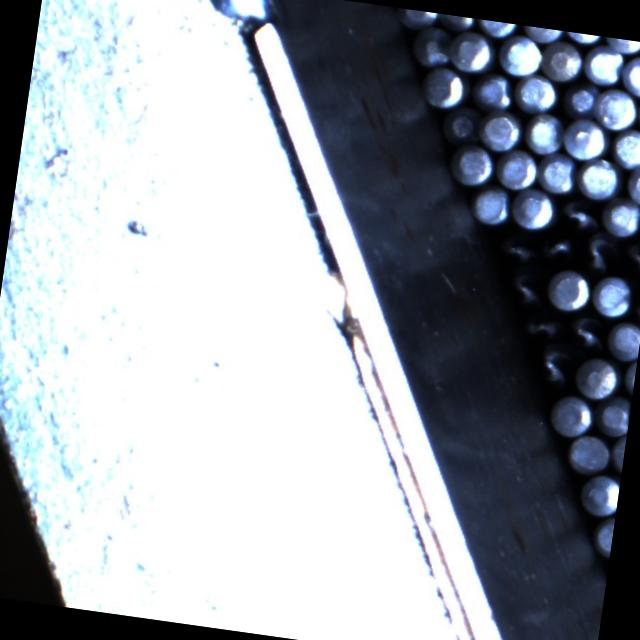tool: (572, 353, 622, 401), (545, 266, 593, 314), (509, 185, 558, 232), (448, 27, 496, 74), (548, 392, 596, 439), (561, 116, 610, 162), (422, 64, 471, 110), (593, 85, 640, 132), (575, 156, 623, 202), (496, 32, 544, 78), (478, 107, 525, 153), (494, 147, 540, 193), (590, 272, 636, 318), (449, 142, 496, 186), (468, 180, 512, 227), (512, 72, 560, 115), (536, 150, 580, 196), (524, 110, 568, 156), (541, 40, 586, 84), (469, 70, 515, 113), (412, 24, 455, 70), (582, 44, 626, 88), (567, 431, 612, 474), (598, 193, 640, 238), (580, 471, 621, 517), (558, 78, 602, 119), (593, 392, 632, 438), (443, 102, 482, 144), (606, 315, 640, 360), (609, 125, 640, 170), (592, 515, 616, 558), (394, 8, 439, 30), (620, 51, 640, 97), (474, 19, 518, 39), (608, 432, 628, 474), (524, 26, 566, 45), (439, 14, 478, 34), (621, 355, 638, 398), (624, 162, 640, 206), (603, 37, 640, 55), (564, 32, 604, 46)
tool_b: (530, 340, 578, 390), (576, 228, 621, 276), (503, 264, 548, 310), (564, 309, 610, 353), (556, 193, 602, 236), (492, 226, 540, 267), (517, 304, 565, 344), (538, 229, 580, 266), (619, 235, 640, 277)
